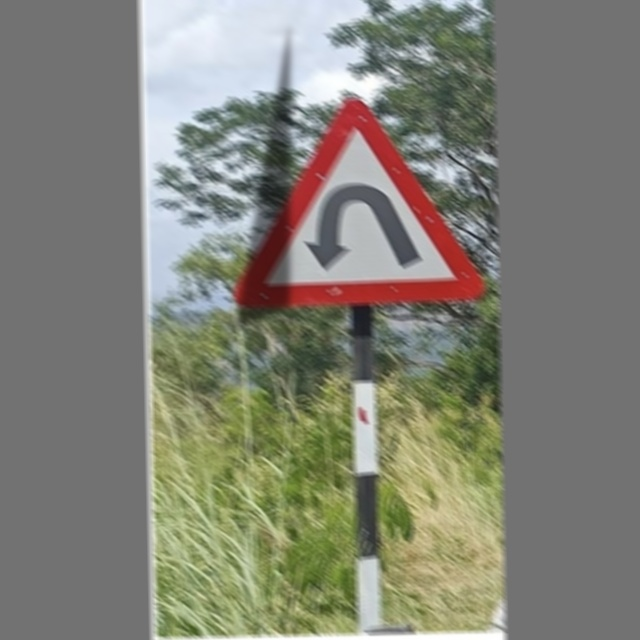Left_Hair_Pin_Bend: (235, 91, 481, 312)
